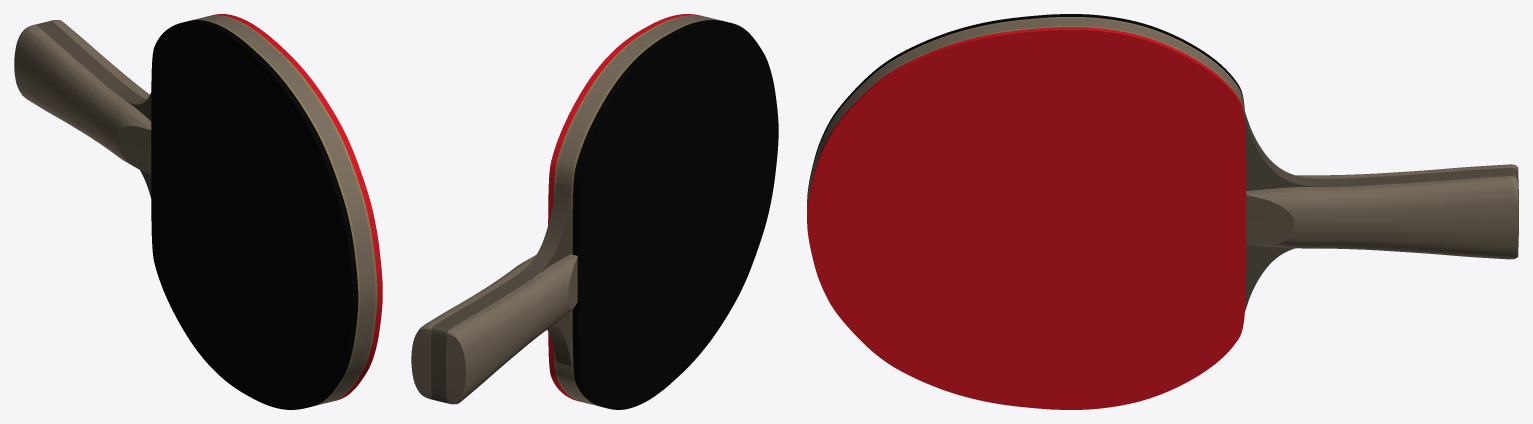
The model's file is paddle.glb.
3 renders of one model, left to right at view 1: azimuth 30°, elevation 25°; view 2: azimuth 150°, elevation 25°; view 3: azimuth 270°, elevation 25°, orthographic. The views are drawn at different scales.
Visible parts, largest first — view 1: handle1.001; view 2: handle1.001; view 3: handle1.001.
Part boxes in pixels (x1,y1,x2,y2): handle1.001: (14,14,382,409); handle1.001: (411,14,778,409); handle1.001: (807,14,1518,409).
Size of the model in its own units: 0.8251 by 5.02 by 8.52.
